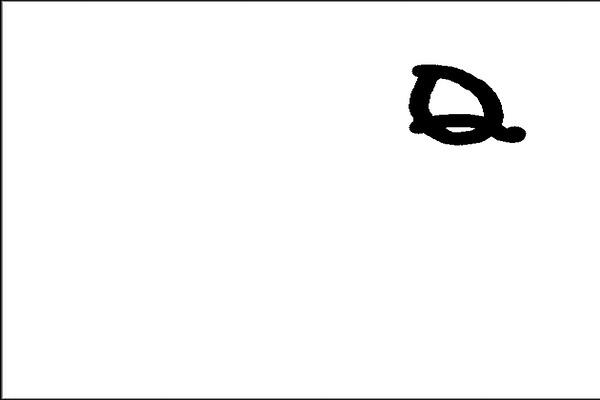Q: (397, 52, 531, 166)
